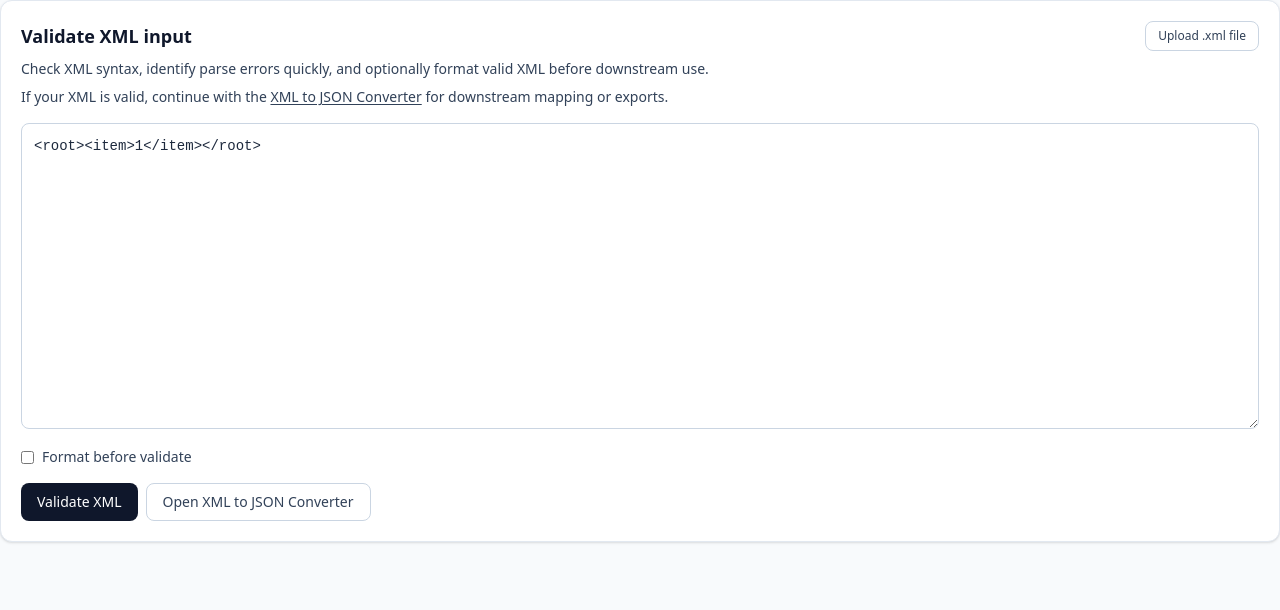
Scenario: XmlValidatorTool › validates correct xml input
Click the button "Validate XML": (79,502) x1=21 y1=483 x2=138 y2=521
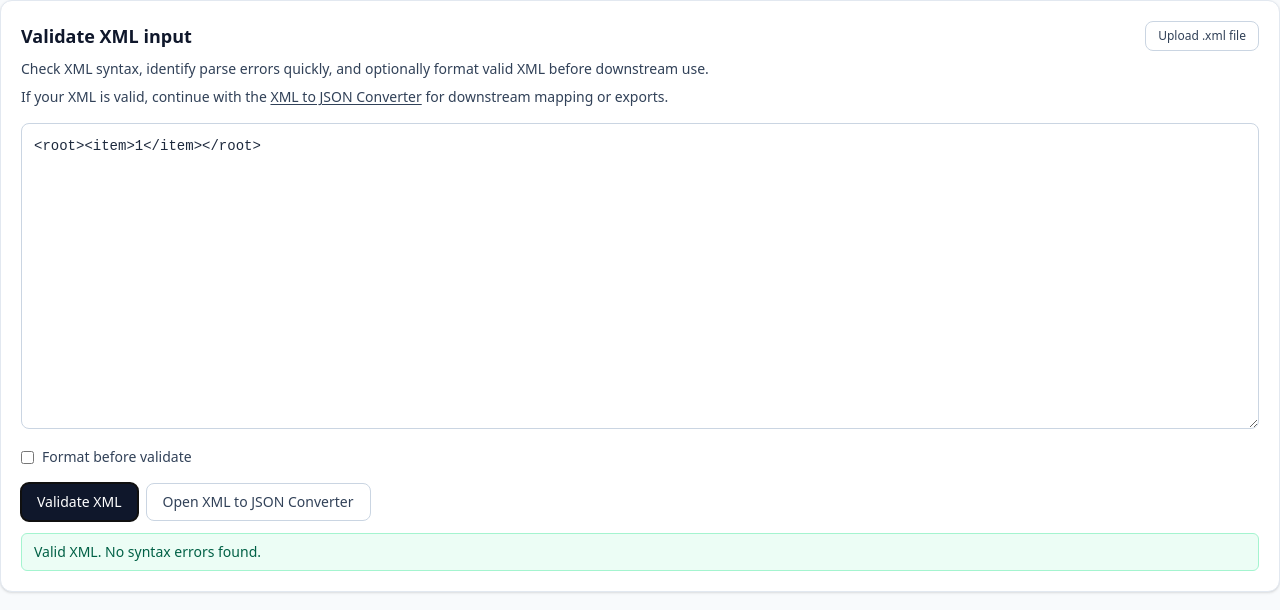
Check: the text "Valid XML. No syntax errors found." is shown, box x1=21 y1=533 x2=1259 y2=571
